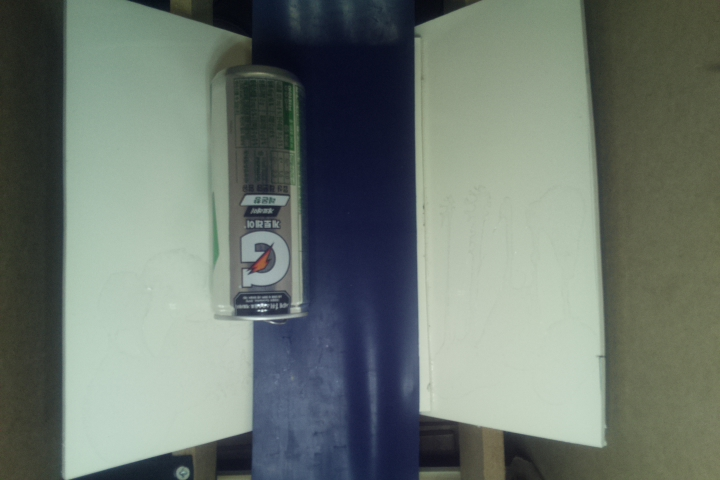can: (205, 62, 311, 329)
